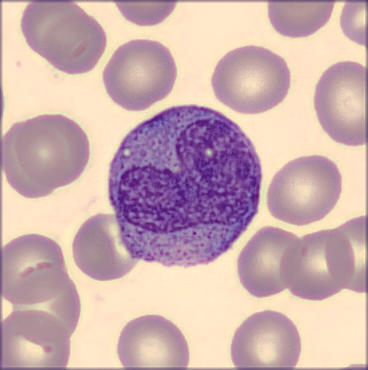WBC: (102, 102, 264, 274)
